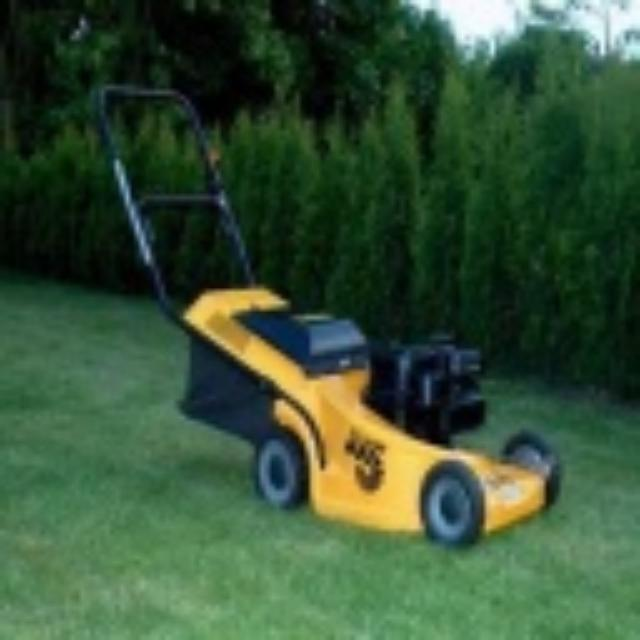Rotary-Mower: (85, 75, 560, 545)
